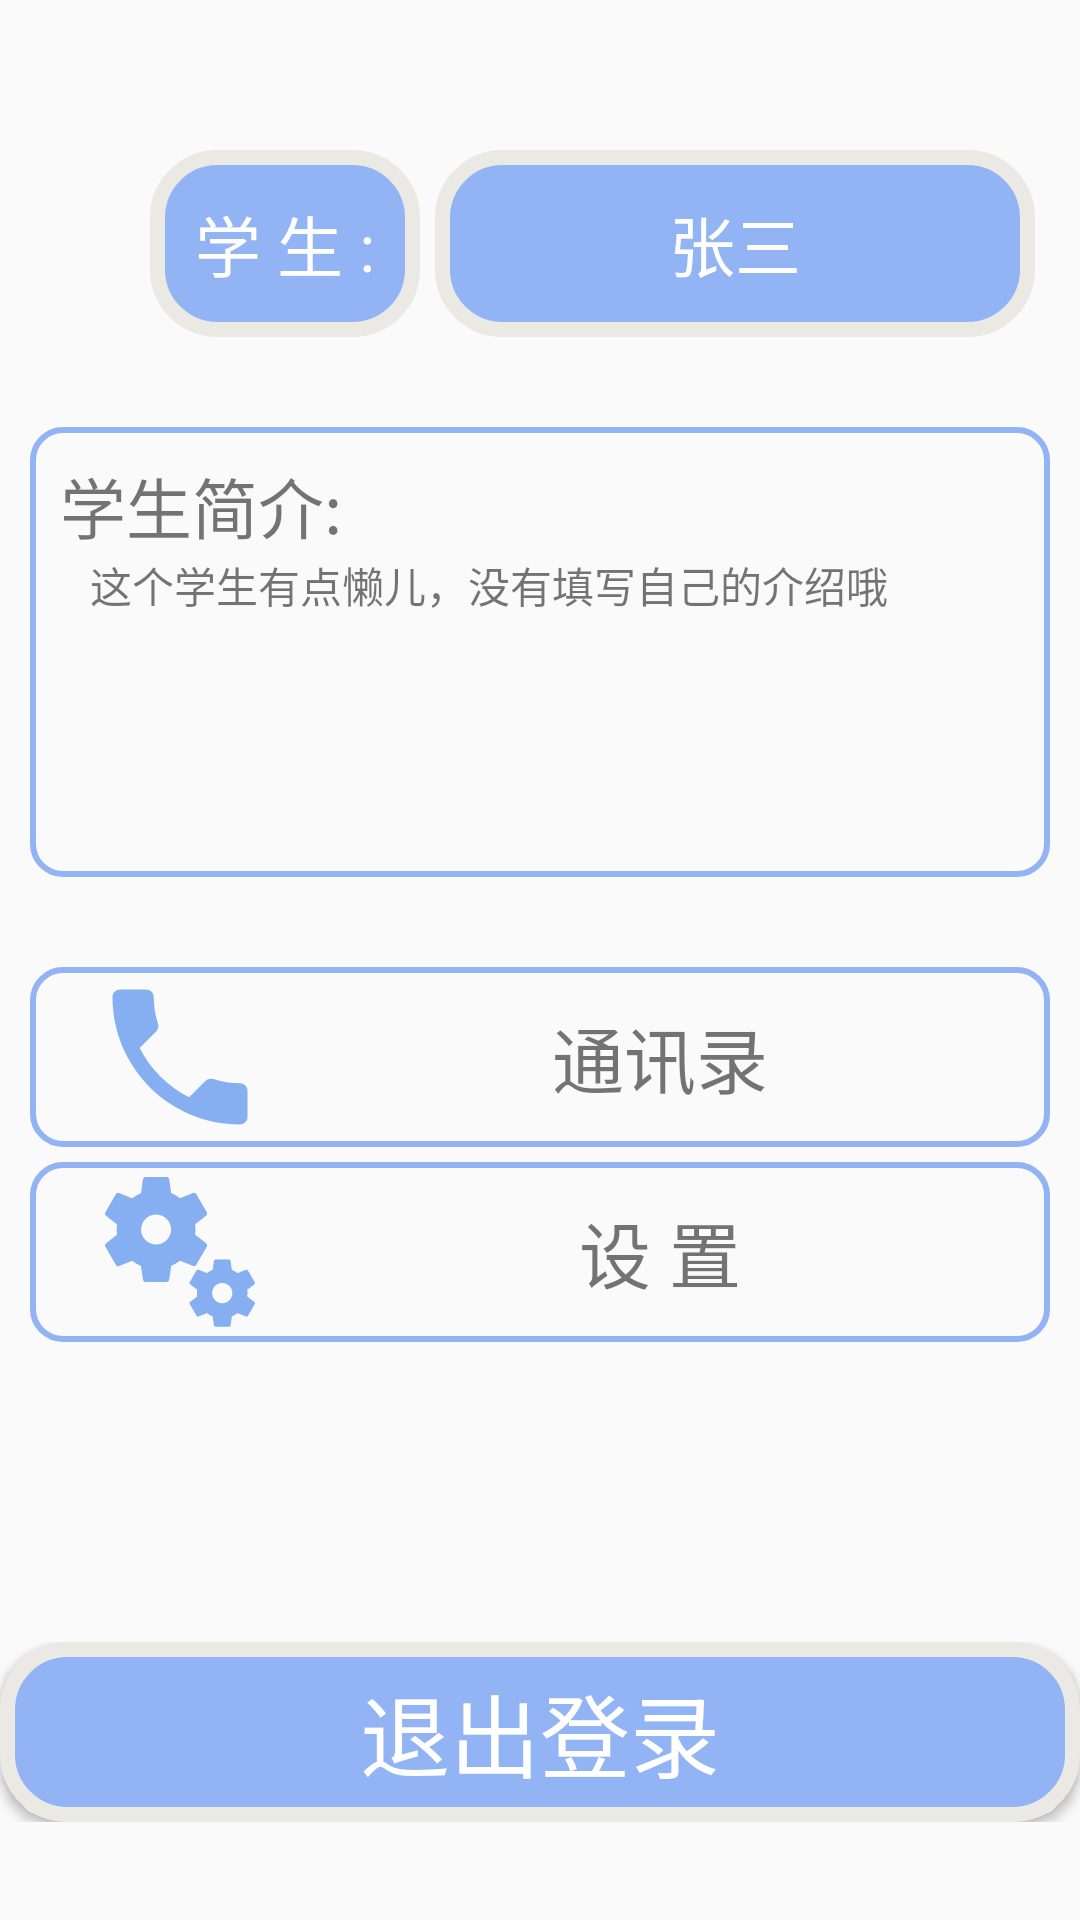

Icons on this 1080px×1920px Android screen, each with its box as (left=x1, top=y1, right=x2, bottom=y2):
phone: (left=112, top=989, right=248, bottom=1125)
setting: (left=105, top=1177, right=255, bottom=1327)
